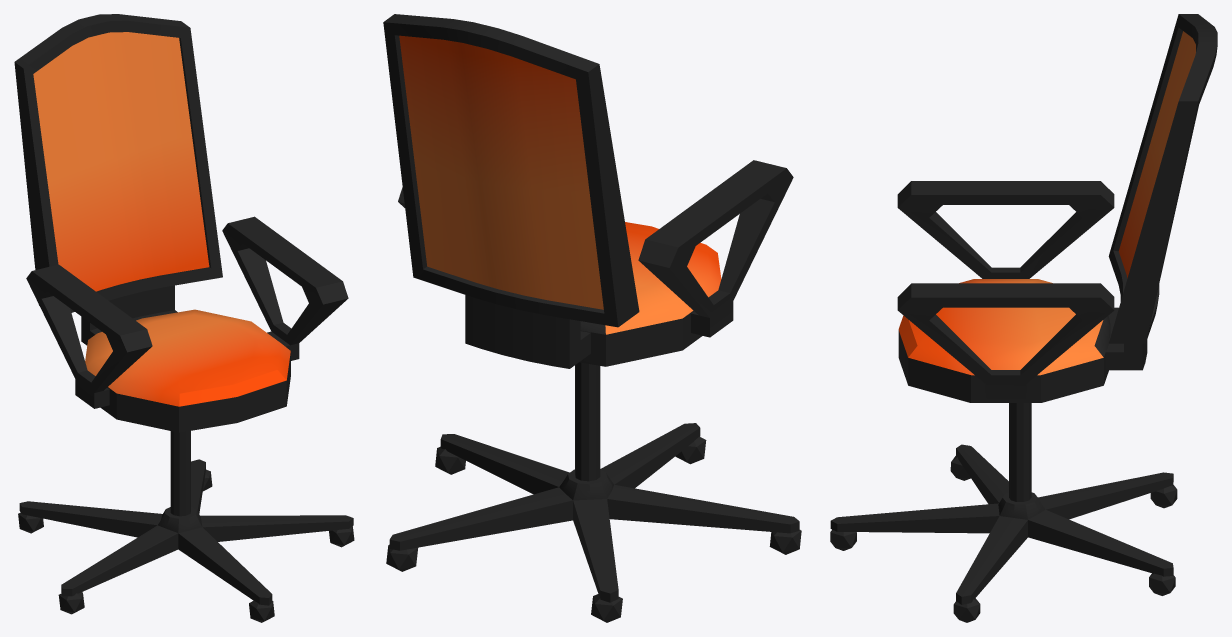
Rendered from seat.glb.
The picture shows the model from 3 angles, left to right: view 1: azimuth 30°, elevation 25°; view 2: azimuth 150°, elevation 25°; view 3: azimuth 270°, elevation 25°; orthographic projection. The views are drawn at different scales.
Parts seen in each view (by area): view 1: seat; view 2: seat; view 3: seat.
Part boxes in pixels (<box>): seat: <box>14,14,354,622</box>; seat: <box>383,14,801,622</box>; seat: <box>830,14,1217,622</box>.
Bounding box in the file's own units: 0.9164 × 1.43 × 0.9755.
1 material, 1 textured.
